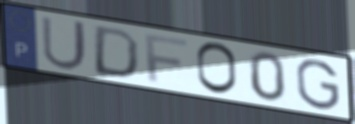0: (247, 50, 288, 104)
D: (90, 24, 142, 80)
F: (142, 32, 190, 85)
G: (294, 58, 343, 111)
O: (195, 41, 240, 97)
U: (39, 14, 90, 72)
